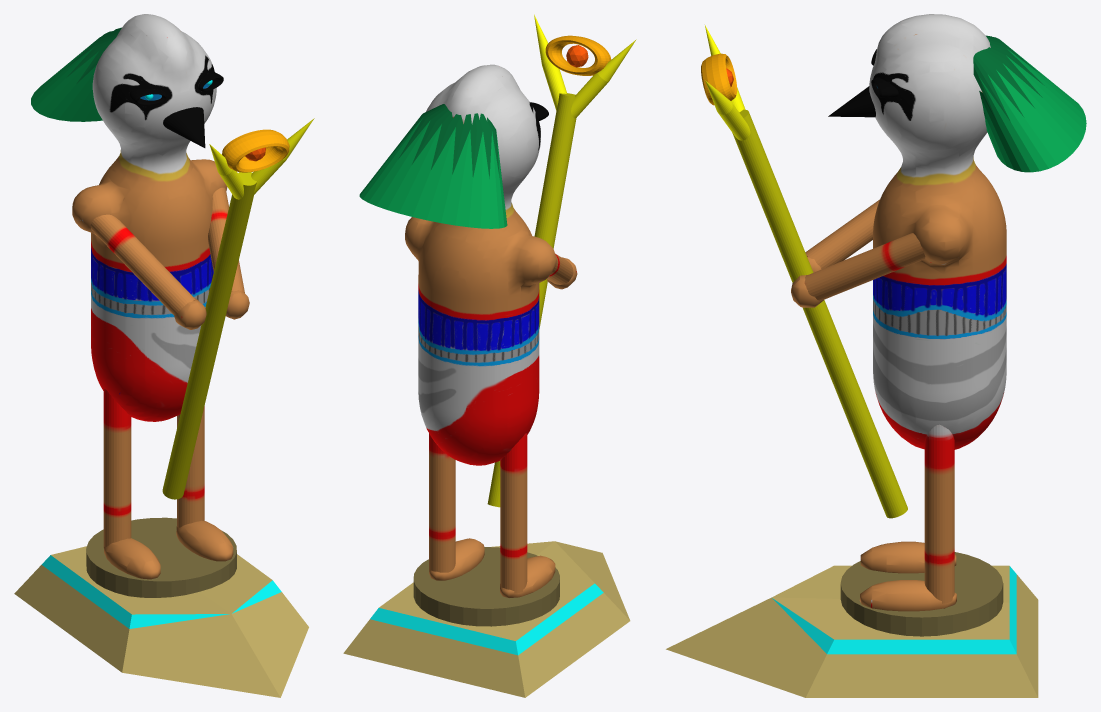
The model's file is Ra Speler.fbx.
3 renders of one model, left to right at view 1: azimuth 30°, elevation 25°; view 2: azimuth 150°, elevation 25°; view 3: azimuth 270°, elevation 25°, orthographic. The views are drawn at different scales.
Visible parts, largest first — view 1: Mball.000, Kubus, Cylinder.005, Cylinder, Cylinder.001, Kegel.001, Cylinder.003, Torus.004, Cylinder.002, Cylinder.004, Kegel, Cylinder.006 (+1 smaller); view 2: Mball.000, Kubus, Kegel.001, Cylinder, Cylinder.001, Cylinder.005, Cylinder.002, Torus.004, Cylinder.006, Cylinder.007, Cylinder.003; view 3: Mball.000, Kubus, Kegel.001, Cylinder.005, Cylinder, Cylinder.002, Cylinder.004, Cylinder.003, Torus.004, Cylinder.007, Kegel.
Boxes of the visible parts, x1,y1,x2,y2 form: Mball.000: [72, 14, 249, 579]; Kubus: [14, 546, 308, 697]; Cylinder.005: [162, 172, 257, 499]; Cylinder: [86, 517, 236, 597]; Cylinder.001: [103, 389, 131, 547]; Kegel.001: [31, 27, 121, 121]; Cylinder.003: [90, 214, 194, 314]; Torus.004: [222, 129, 289, 172]; Cylinder.002: [177, 406, 204, 527]; Cylinder.004: [208, 187, 244, 292]; Kegel: [163, 107, 205, 147]; Cylinder.006: [209, 144, 243, 199]; Mball.000: [405, 64, 577, 597]; Kubus: [343, 541, 630, 697]; Kegel.001: [359, 104, 507, 228]; Cylinder: [413, 547, 559, 626]; Cylinder.001: [500, 433, 527, 593]; Cylinder.005: [487, 93, 576, 507]; Cylinder.002: [429, 433, 455, 572]; Torus.004: [545, 35, 611, 75]; Cylinder.006: [571, 39, 636, 118]; Cylinder.007: [534, 14, 567, 110]; Cylinder.003: [547, 254, 573, 284]; Mball.000: [791, 14, 1006, 611]; Kubus: [666, 565, 1038, 697]; Kegel.001: [973, 35, 1086, 172]; Cylinder.005: [732, 109, 907, 518]; Cylinder: [840, 552, 1003, 636]; Cylinder.002: [924, 424, 954, 603]; Cylinder.004: [804, 233, 925, 300]; Cylinder.003: [805, 199, 879, 269]; Torus.004: [701, 53, 737, 105]; Cylinder.007: [705, 80, 750, 140]; Kegel: [828, 86, 875, 117].
Bounding box in the file's own units: 400 × 1199 × 724.
Materials: 14 (3 with a texture image).
